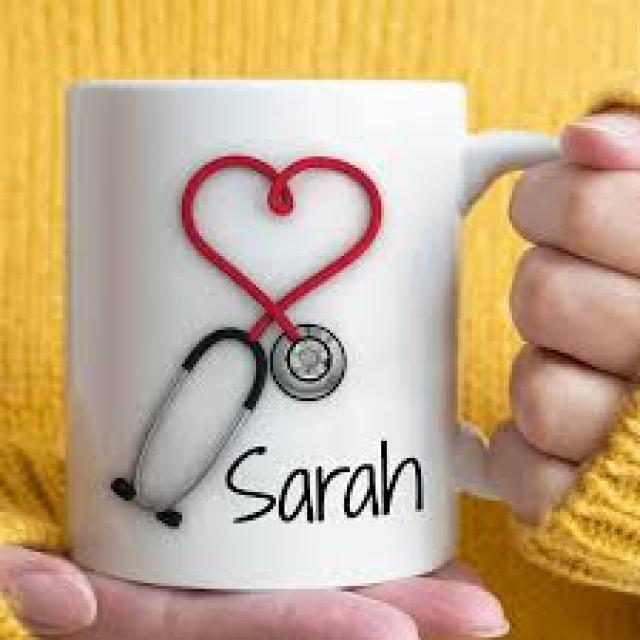taza: (59, 49, 606, 598)
